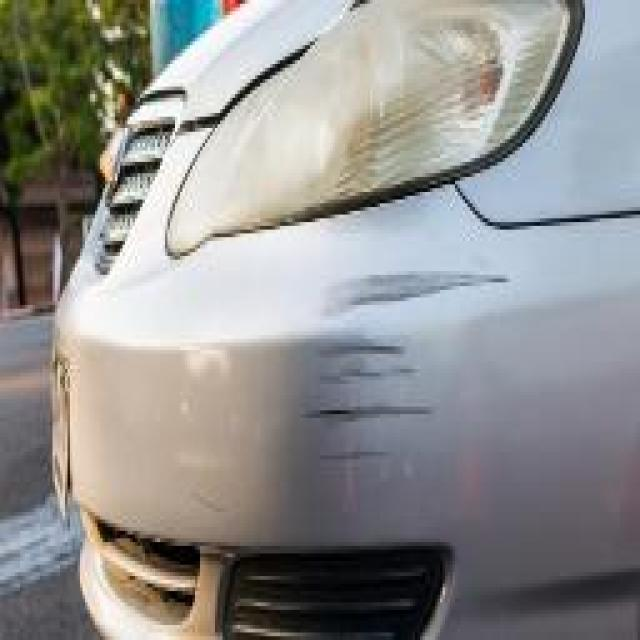Bumper: (290, 245, 525, 497)
